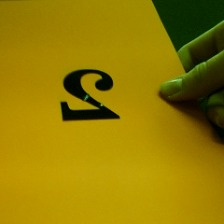orange2: (54, 64, 127, 124)
